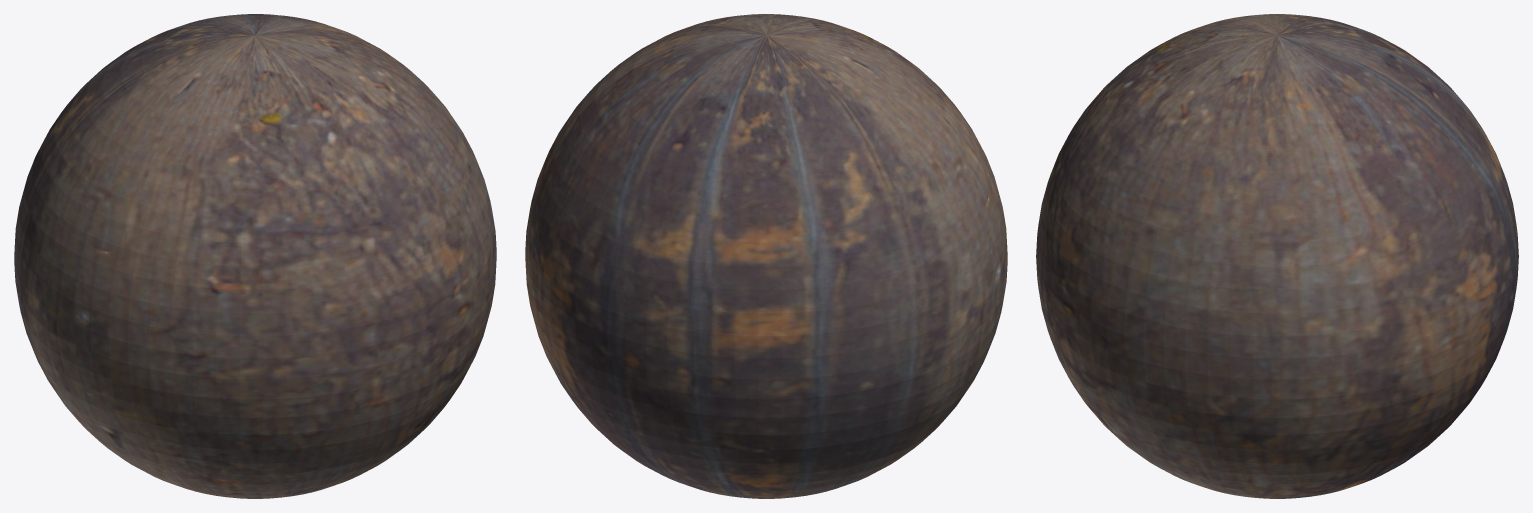
File: boule.obj
The picture shows the model from 3 angles, left to right: view 1: azimuth 30°, elevation 25°; view 2: azimuth 150°, elevation 25°; view 3: azimuth 270°, elevation 25°; orthographic projection.
Visible parts, largest first — view 1: Sphere; view 2: Sphere; view 3: Sphere.
Boxes of the visible parts, left/top/right/bottom form: Sphere: left=14, top=14, right=496, bottom=498; Sphere: left=525, top=14, right=1007, bottom=498; Sphere: left=1036, top=14, right=1518, bottom=498.
Bounding box in the file's own units: 1.97 × 2 × 1.97.
